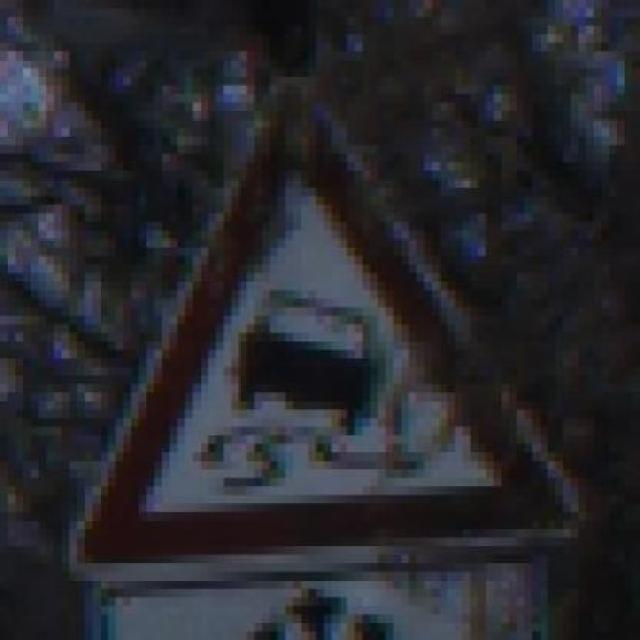Slippery Road Ahead: (54, 85, 601, 589)
